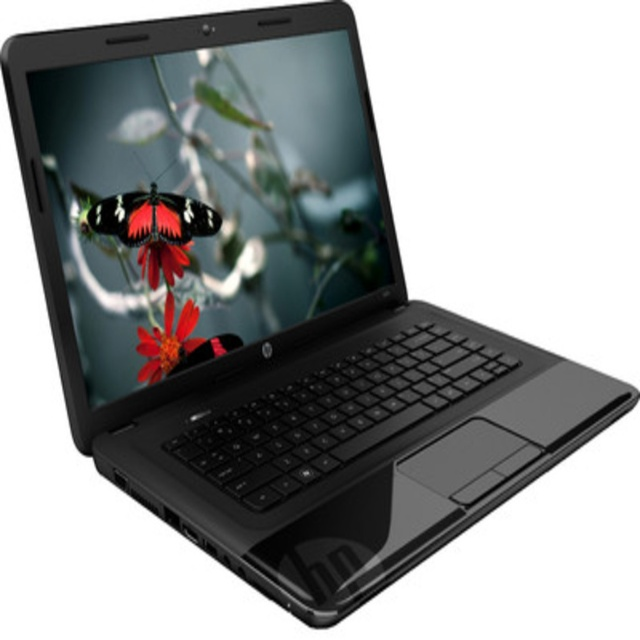Butterfly: (88, 149, 222, 252)
